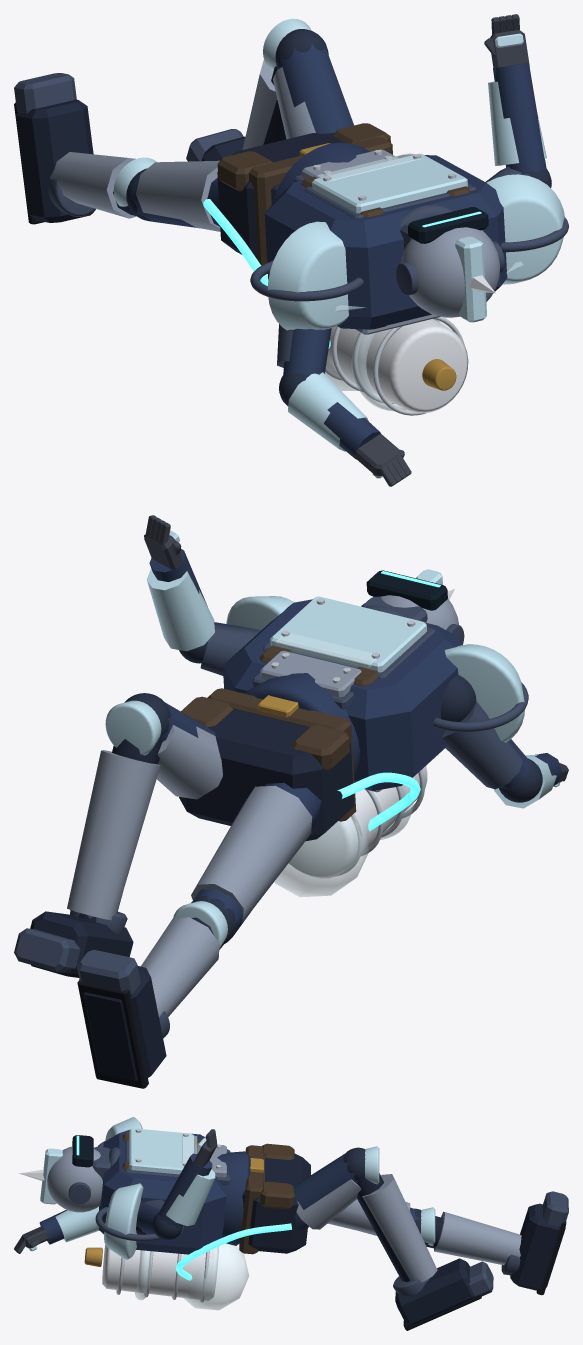
Rendered from hero_glacier_downed.glb.
3 renders of one model, top to bottom at view 1: azimuth 30°, elevation 25°; view 2: azimuth 150°, elevation 25°; view 3: azimuth 270°, elevation 25°, orthographic. The views are drawn at different scales.
Visible parts, largest first — view 1: hero_glacier_downed_chest, hero_glacier_downed_dewar, hero_glacier_downed_pauldron-1, hero_glacier_downed_boot_l, hero_glacier_downed_chest_plate_face, hero_glacier_downed_pauldron1, hero_glacier_downed_helmet, hero_glacier_downed_thigh_plate_l, hero_glacier_downed_thigh_r, hero_glacier_downed_forearm_r, hero_glacier_downed_pelvis, hero_glacier_downed_greave_l (+33 smaller); view 2: hero_glacier_downed_chest, hero_glacier_downed_pelvis, hero_glacier_downed_greave_r, hero_glacier_downed_thigh_plate_l, hero_glacier_downed_chest_plate_face, hero_glacier_downed_boot_l, hero_glacier_downed_dewar_frost, hero_glacier_downed_greave_l, hero_glacier_downed_dewar, hero_glacier_downed_pauldron-1, hero_glacier_downed_thigh_plate_r, hero_glacier_downed_bracer_r (+26 smaller); view 3: hero_glacier_downed_chest, hero_glacier_downed_dewar, hero_glacier_downed_greave_r, hero_glacier_downed_pelvis, hero_glacier_downed_greave_l, hero_glacier_downed_boot_r, hero_glacier_downed_dewar_frost, hero_glacier_downed_boot_l, hero_glacier_downed_chest_plate_face, hero_glacier_downed_helmet, hero_glacier_downed_pauldron1, hero_glacier_downed_abdomen (+36 smaller).
Part boxes in pixels (x1,y1,x2,y2): hero_glacier_downed_chest: (264, 154, 507, 329); hero_glacier_downed_dewar: (326, 319, 468, 413); hero_glacier_downed_pauldron-1: (268, 221, 348, 330); hero_glacier_downed_boot_l: (16, 99, 95, 222); hero_glacier_downed_chest_plate_face: (312, 153, 467, 213); hero_glacier_downed_pauldron1: (486, 174, 564, 284); hero_glacier_downed_helmet: (401, 227, 499, 317); hero_glacier_downed_thigh_plate_l: (136, 160, 220, 231); hero_glacier_downed_thigh_r: (276, 43, 353, 133); hero_glacier_downed_forearm_r: (493, 63, 546, 173); hero_glacier_downed_pelvis: (217, 133, 345, 257); hero_glacier_downed_greave_l: (50, 152, 136, 218); hero_glacier_downed_chest: (223, 599, 461, 790); hero_glacier_downed_pelvis: (179, 708, 354, 840); hero_glacier_downed_greave_r: (67, 750, 160, 920); hero_glacier_downed_thigh_plate_l: (191, 785, 312, 922); hero_glacier_downed_chest_plate_face: (270, 596, 426, 672); hero_glacier_downed_boot_l: (83, 966, 166, 1080); hero_glacier_downed_dewar_frost: (274, 816, 368, 897); hero_glacier_downed_greave_l: (141, 917, 219, 1016); hero_glacier_downed_dewar: (289, 766, 427, 878); hero_glacier_downed_pauldron-1: (444, 644, 524, 742); hero_glacier_downed_thigh_plate_r: (156, 725, 222, 799); hero_glacier_downed_bracer_r: (146, 569, 214, 651); hero_glacier_downed_chest: (99, 1130, 226, 1254); hero_glacier_downed_dewar: (102, 1244, 218, 1300); hero_glacier_downed_greave_r: (362, 1174, 437, 1282); hero_glacier_downed_pelvis: (238, 1153, 310, 1253); hero_glacier_downed_greave_l: (434, 1211, 521, 1265); hero_glacier_downed_boot_r: (395, 1258, 473, 1325); hero_glacier_downed_dewar_frost: (183, 1243, 248, 1310); hero_glacier_downed_boot_l: (510, 1203, 565, 1290); hero_glacier_downed_chest_plate_face: (129, 1128, 193, 1174); hero_glacier_downed_helmet: (47, 1146, 102, 1212); hero_glacier_downed_pauldron1: (104, 1183, 143, 1259); hero_glacier_downed_abdomen: (217, 1151, 250, 1245).
Size of the model in its own units: 0.8907 by 0.892 by 1.98.
